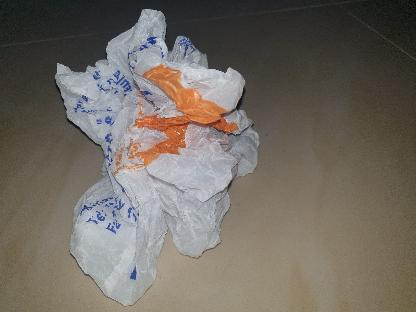Plastic Bag: (53, 6, 260, 306)
